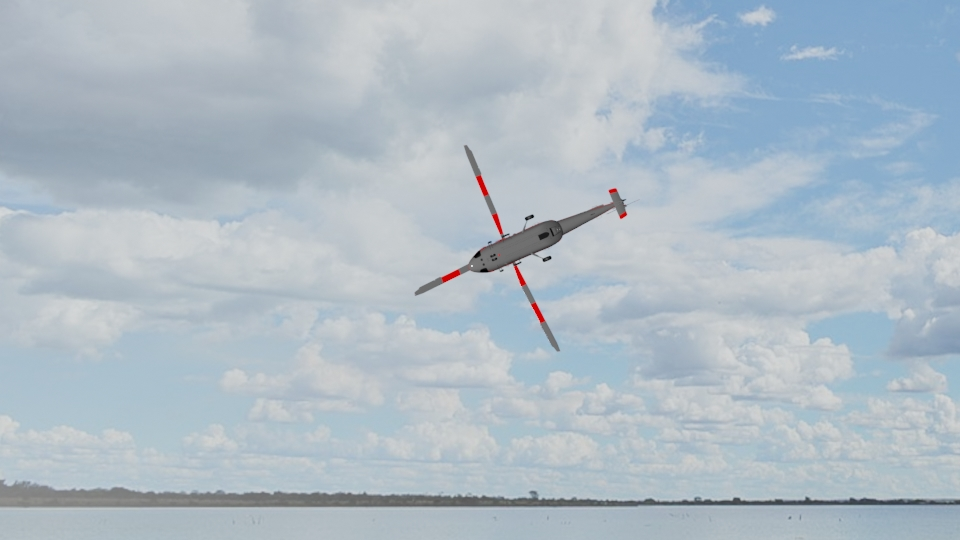heli: (415, 143, 630, 352)
